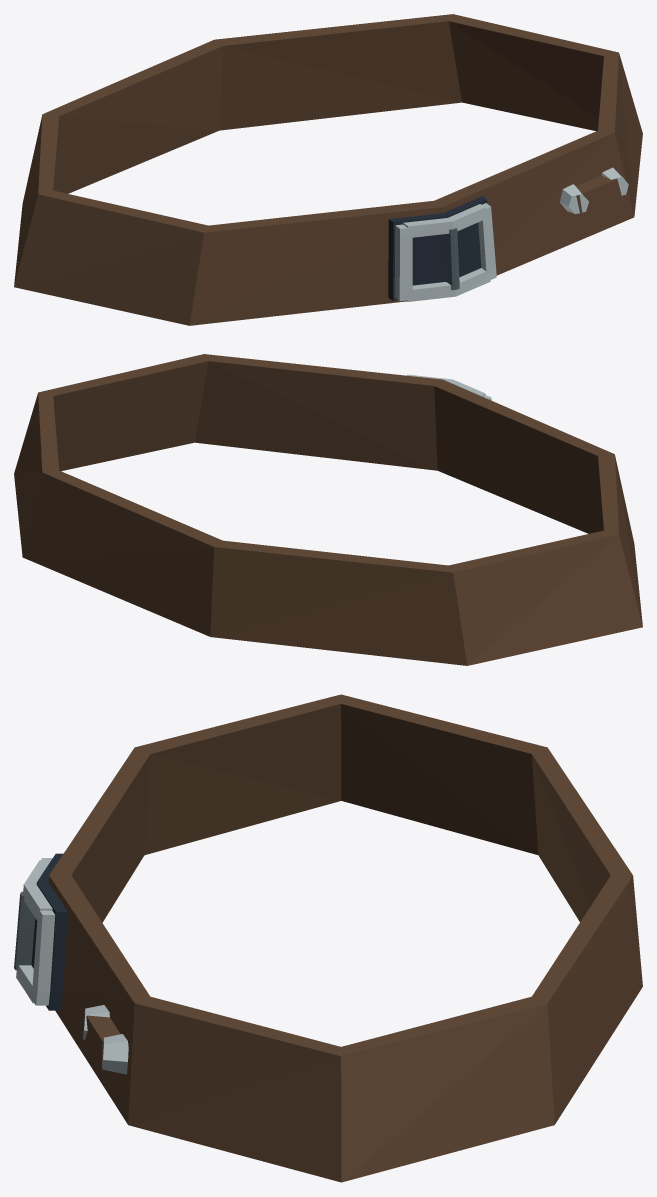
The model's file is studded_waist-female-thickHide.glb.
3 renders of one model, top to bottom at view 1: azimuth 30°, elevation 25°; view 2: azimuth 150°, elevation 25°; view 3: azimuth 270°, elevation 25°, orthographic. The views are drawn at different scales.
Parts seen in each view (by area): view 1: studded waist band, Buckle recessed backplate, Buckle side rail -0.145, Buckle cross rail 4.506, Buckle cross rail 4.294, Heavy hide binding studded waist band, Buckle side rail 0.145, Buckle pin, Set rivet studded waist band -1; view 2: studded waist band; view 3: studded waist band, Buckle recessed backplate, Buckle side rail 0.145, Buckle pin, Heavy hide binding studded waist band, Set rivet studded waist band 1, Buckle cross rail 4.506.
Part boxes in pixels (<box>): studded waist band: <box>14,14,642,325</box>; Buckle recessed backplate: <box>388,196,487,300</box>; Buckle side rail -0.145: <box>394,224,412,301</box>; Buckle cross rail 4.506: <box>403,204,485,238</box>; Buckle cross rail 4.294: <box>406,268,490,301</box>; Heavy hide binding studded waist band: <box>576,175,621,212</box>; Buckle side rail 0.145: <box>478,203,496,281</box>; Buckle pin: <box>444,228,459,290</box>; Set rivet studded waist band -1: <box>560,184,588,214</box>; studded waist band: <box>14,354,642,665</box>; studded waist band: <box>48,694,642,1182</box>; Buckle recessed backplate: <box>31,853,67,1010</box>; Buckle side rail 0.145: <box>31,908,55,1005</box>; Buckle pin: <box>14,891,35,970</box>; Heavy hide binding studded waist band: <box>82,1011,120,1065</box>; Set rivet studded waist band 1: <box>102,1034,128,1074</box>; Buckle cross rail 4.506: <box>23,860,52,920</box>.
Size of the model in its own units: 2.19 by 0.2895 by 1.48.
